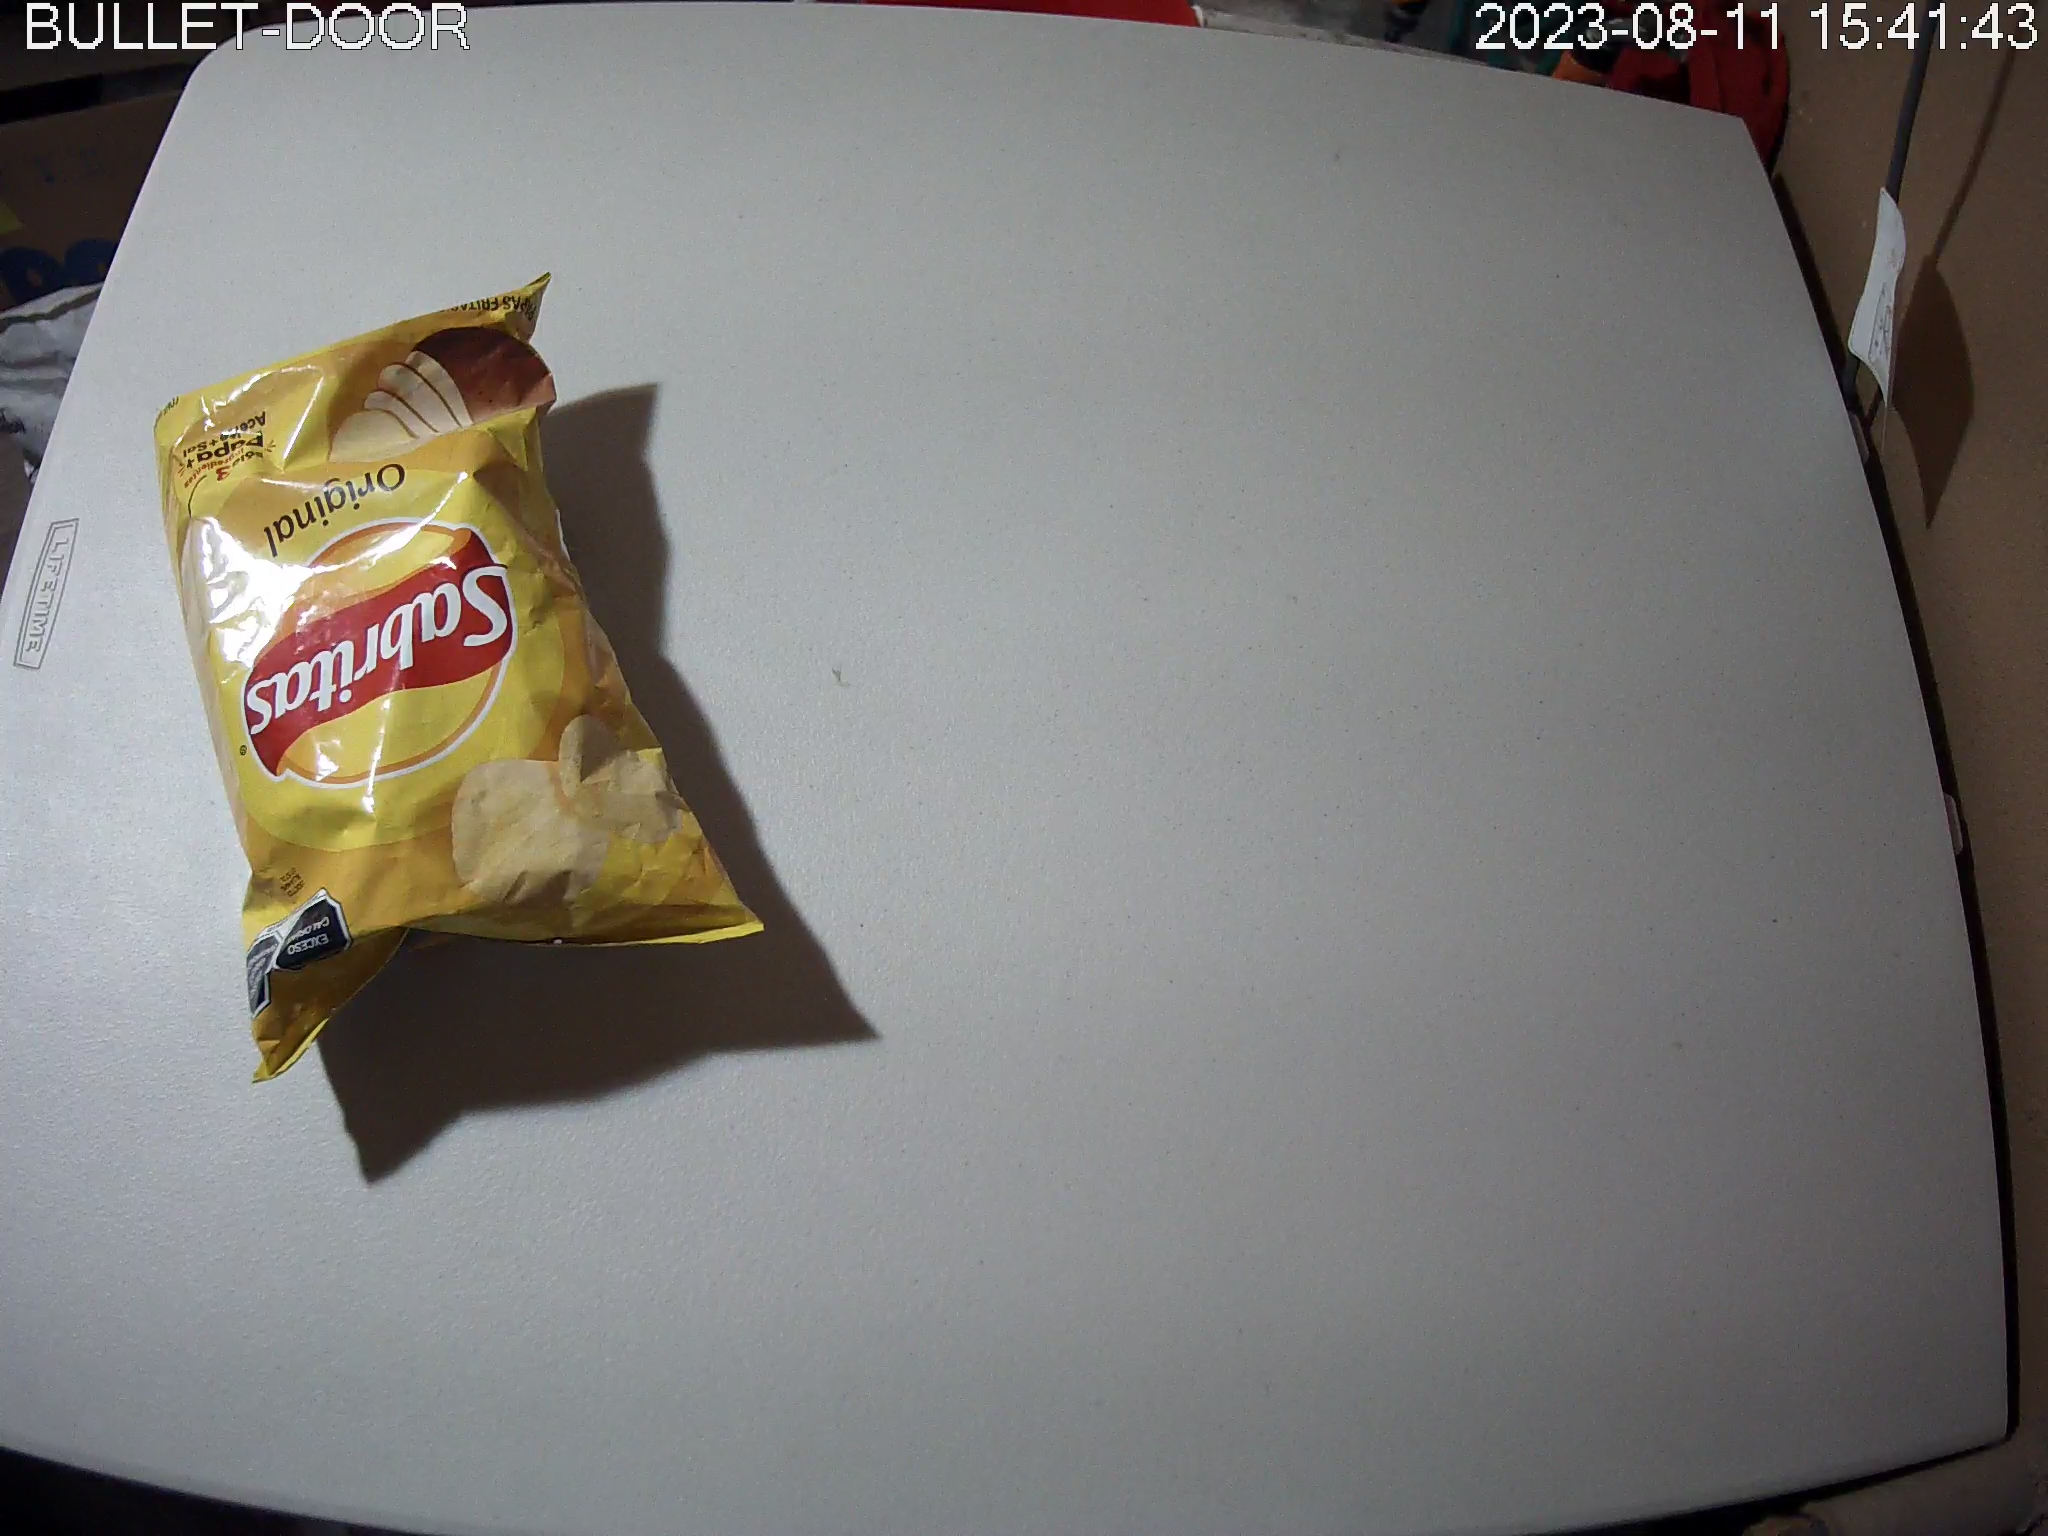Sabritas_160_F: (152, 273, 769, 1087)
